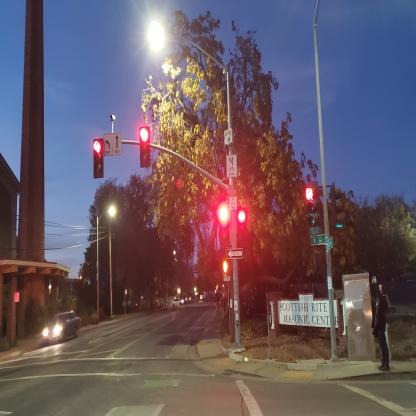left-red: (303, 180, 324, 237), (92, 136, 104, 181)
red: (236, 207, 249, 251), (138, 125, 150, 170), (218, 202, 230, 247)
